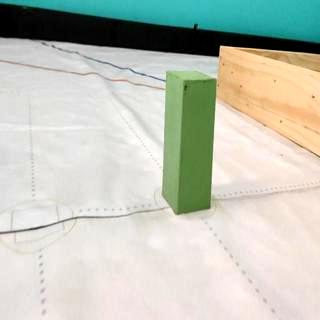greenbox: (160, 68, 216, 216)
